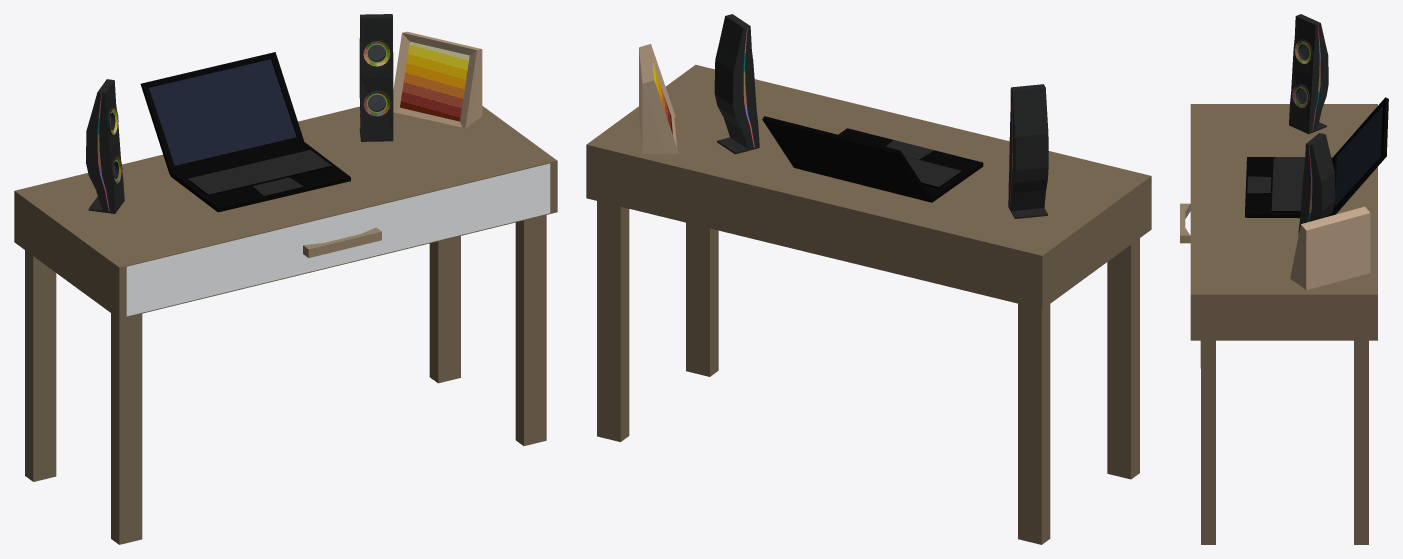
The model's file is Accesories_Office_D.glb.
The picture shows the model from 3 angles, left to right: view 1: azimuth 30°, elevation 25°; view 2: azimuth 150°, elevation 25°; view 3: azimuth 270°, elevation 25°; orthographic projection. The views are drawn at different scales.
Parts seen in each view (by area): view 1: Accesories_Office_D; view 2: Accesories_Office_D; view 3: Accesories_Office_D.
Part boxes in pixels (x1=…): Accesories_Office_D: x1=14, y1=14, x2=557, y2=544; Accesories_Office_D: x1=586, y1=14, x2=1151, y2=544; Accesories_Office_D: x1=1180, y1=14, x2=1388, y2=544.
Bounding box in the file's own units: 1.2 × 1.05 × 0.555.
Materials: 1 (1 with a texture image).
